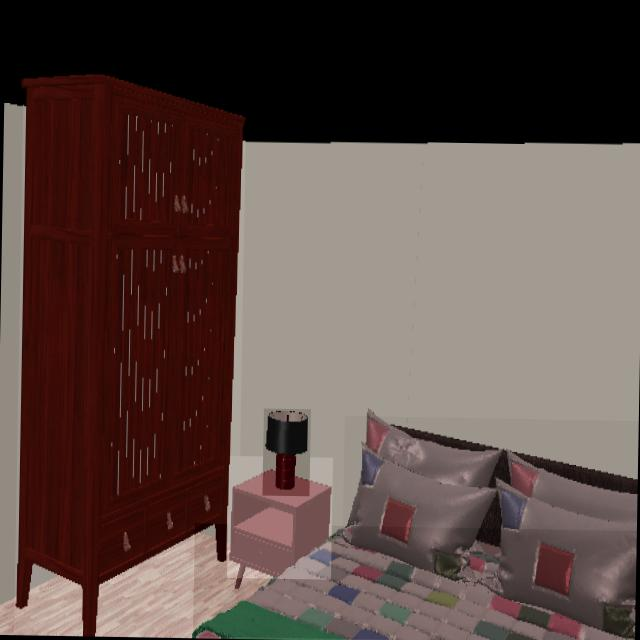bed: (193, 526, 622, 640)
lamp: (263, 409, 310, 496)
nighttable: (227, 457, 332, 578)
pillow: (342, 416, 637, 639)
wardrobe: (17, 75, 245, 635)
